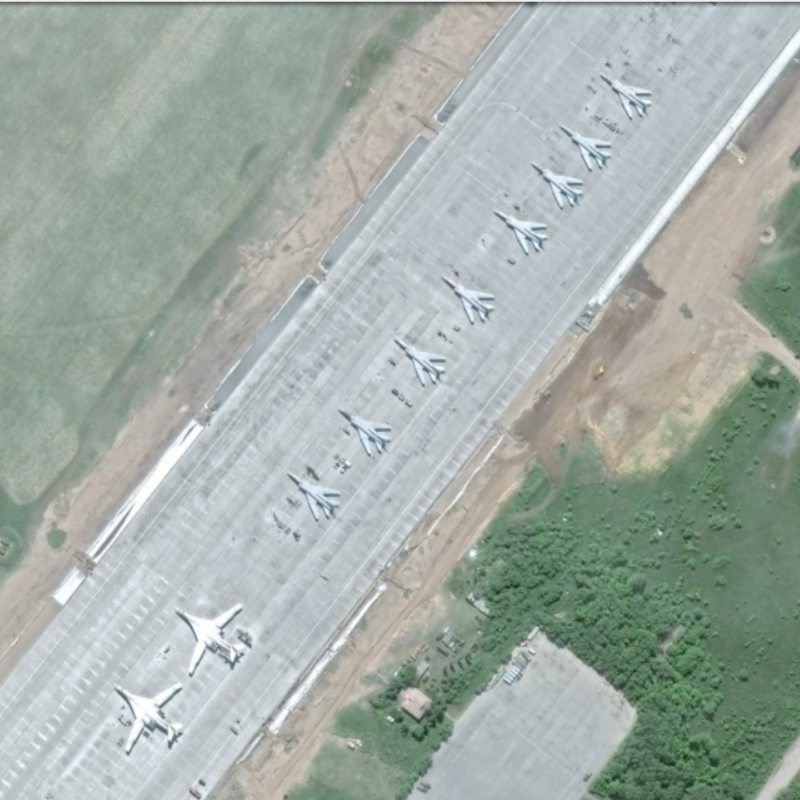A12: (437, 272, 501, 326), (336, 406, 398, 461), (391, 333, 450, 389), (285, 467, 344, 523), (530, 157, 588, 211), (557, 122, 616, 175), (596, 71, 657, 122), (491, 207, 553, 255)
A6: (169, 597, 250, 679), (110, 677, 191, 756)
